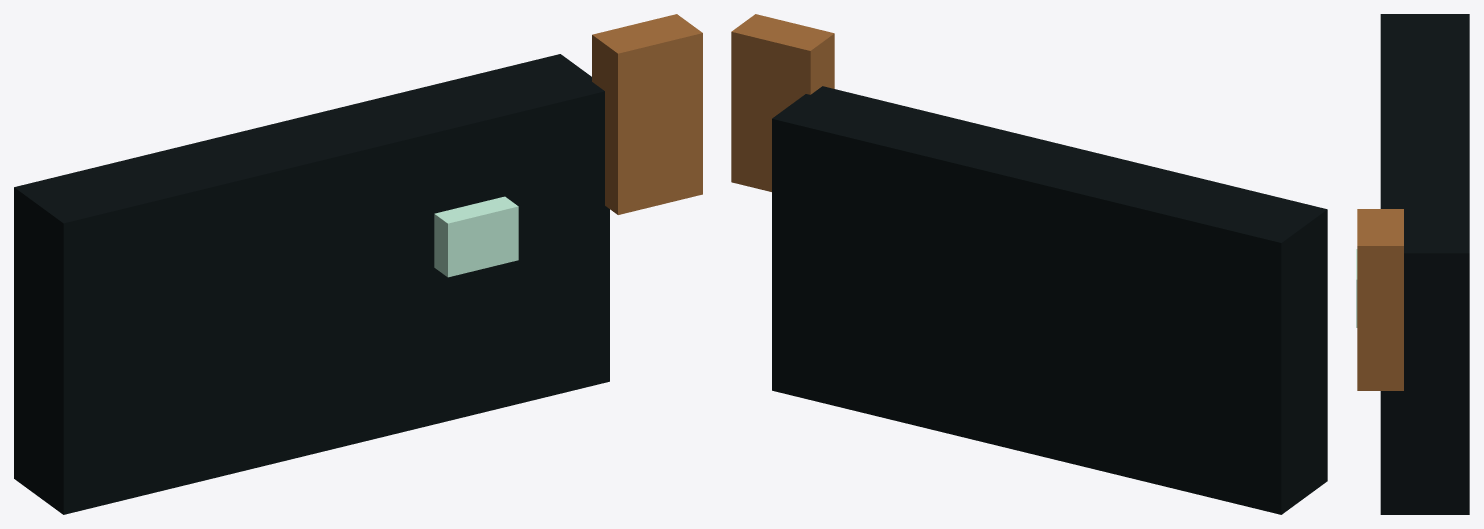
Rendered from neo_head12.glb.
3 renders of one model, left to right at view 1: azimuth 30°, elevation 25°; view 2: azimuth 150°, elevation 25°; view 3: azimuth 270°, elevation 25°, orthographic. The views are drawn at different scales.
Visible parts, largest first — view 1: SAO_NeoHead12 rigid asymmetric visor; view 2: SAO_NeoHead12 rigid asymmetric visor; view 3: SAO_NeoHead12 rigid asymmetric visor.
Part boxes in pixels (x1,y1,x2,y2): SAO_NeoHead12 rigid asymmetric visor: [14, 14, 702, 514]; SAO_NeoHead12 rigid asymmetric visor: [731, 14, 1327, 514]; SAO_NeoHead12 rigid asymmetric visor: [1356, 14, 1469, 514].
Bounding box in the file's own units: 0.2923 × 0.151 × 0.051.
Materials: 1 (1 with a texture image).
